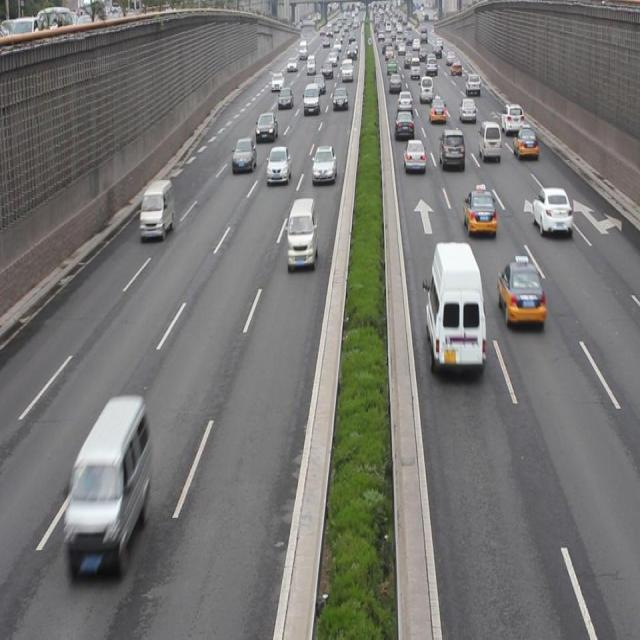car: (497, 255, 545, 332), (530, 186, 572, 238), (462, 185, 497, 239), (439, 128, 464, 168), (265, 144, 290, 183), (401, 138, 426, 176), (230, 137, 255, 172), (500, 102, 524, 137), (312, 146, 334, 184), (254, 110, 278, 142), (511, 129, 537, 158), (395, 110, 413, 142)
truck: (65, 394, 150, 577), (422, 242, 486, 374), (285, 193, 316, 270), (140, 181, 173, 242), (479, 121, 501, 163)
